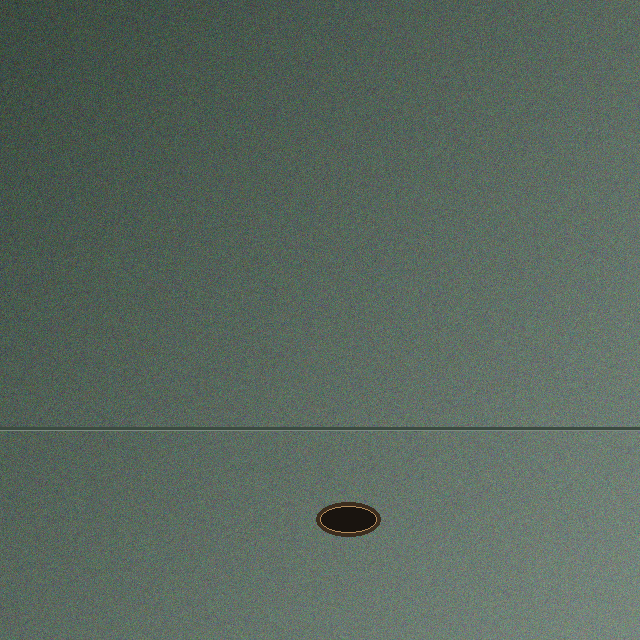defect: (312, 498, 384, 540)
